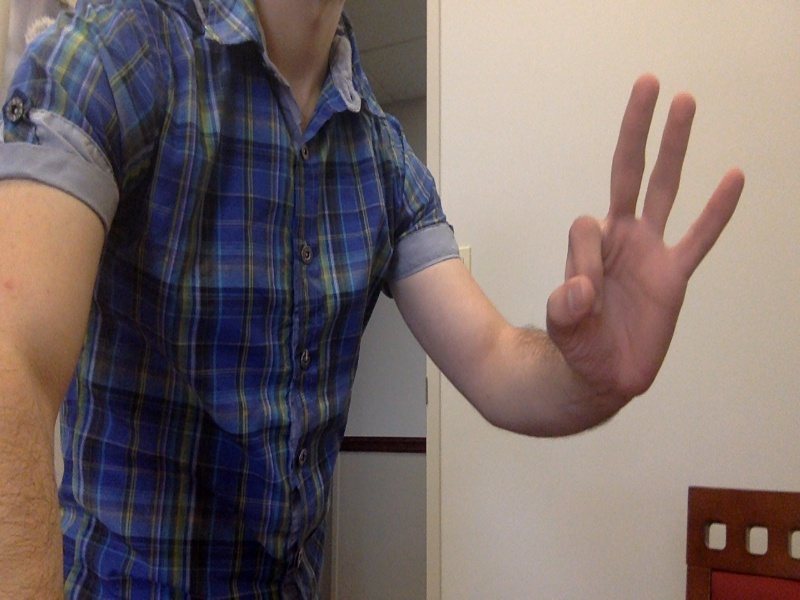3-hand: (551, 75, 744, 412)
